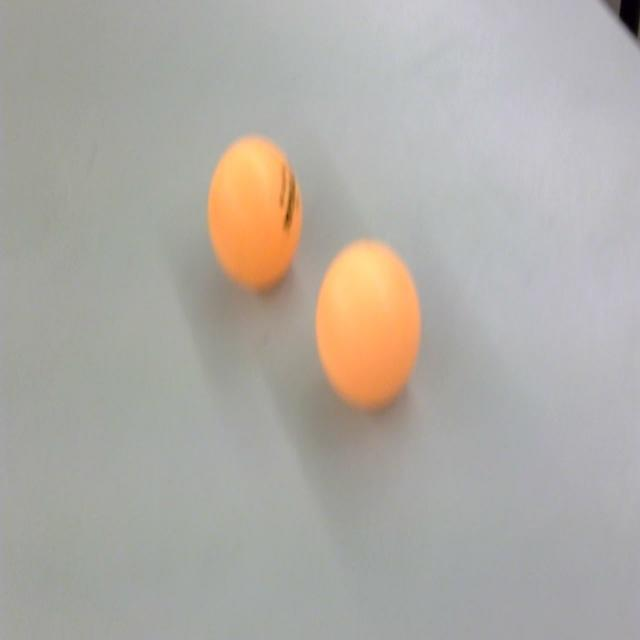ball: (313, 236, 424, 412), (207, 132, 303, 296)
